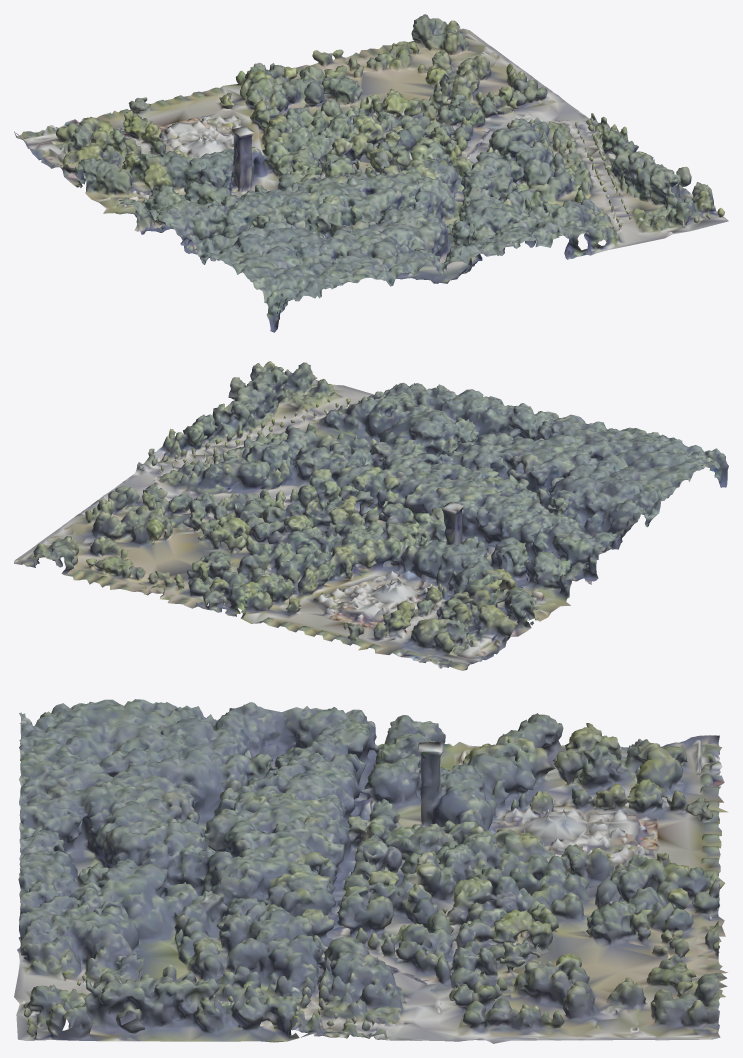
The model's file is tile-3890_58196.glb.
3 views of the same model, one above another, from view 1: azimuth 30°, elevation 25°; view 2: azimuth 150°, elevation 25°; view 3: azimuth 270°, elevation 25° (orthographic). The views are drawn at different scales.
Visible parts, largest first — view 1: world; view 2: world; view 3: world.
Boxes of the visible parts, x1,y1,x2,y2 form: world: (14, 14, 728, 332); world: (14, 361, 728, 670); world: (14, 699, 728, 1043).
Size of the model in its own units: 368 by 46.28 by 369.
